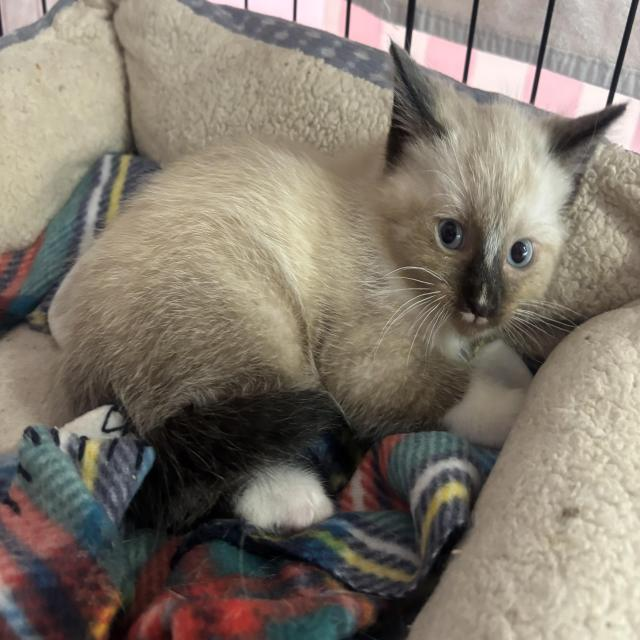siamese_cat: (366, 34, 632, 355)
